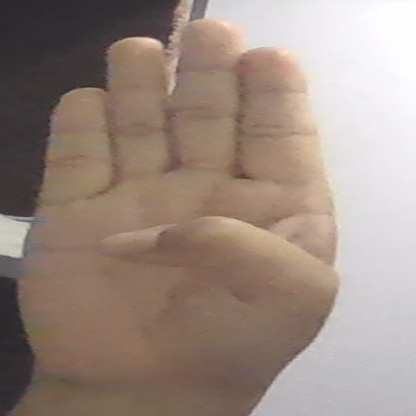B: (23, 18, 339, 403)
